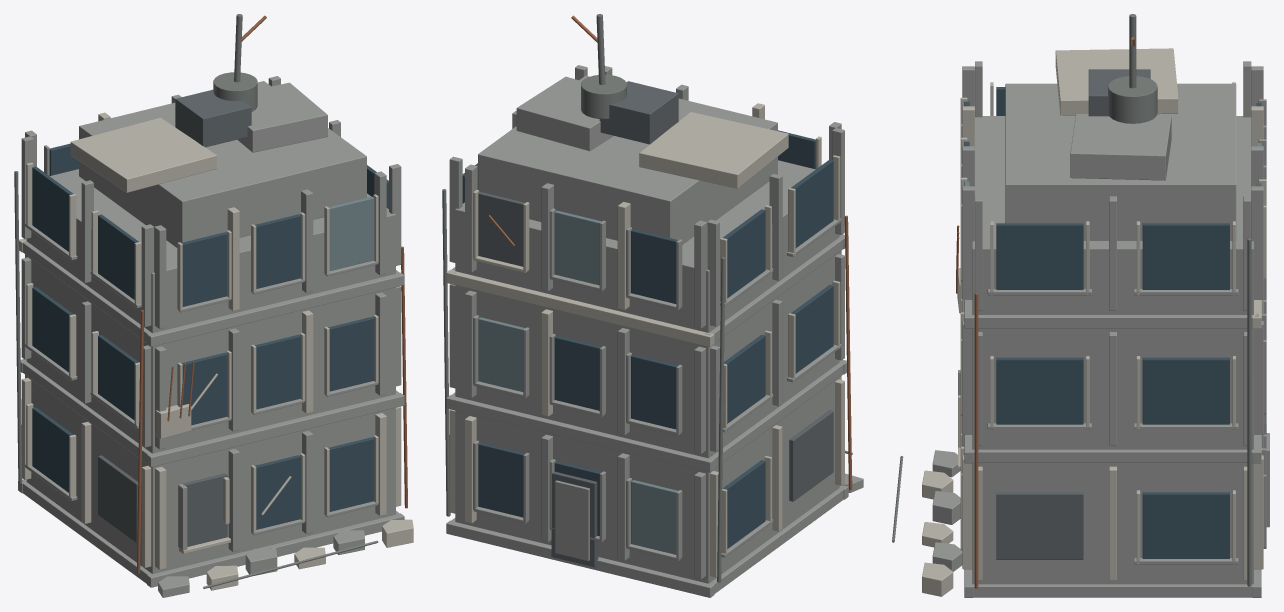
The model's file is Apoc_Building_06_Ruined_Clinic_Lowrise.fbx.
The picture shows the model from 3 angles, left to right: view 1: azimuth 30°, elevation 25°; view 2: azimuth 150°, elevation 25°; view 3: azimuth 270°, elevation 25°; orthographic projection. The views are drawn at different scales.
Visible parts, largest first — view 1: Apoc_Building_06_Ruined_Clinic_Lowrise; view 2: Apoc_Building_06_Ruined_Clinic_Lowrise; view 3: Apoc_Building_06_Ruined_Clinic_Lowrise.
Part boxes in pixels (x1,y1,x2,y2): Apoc_Building_06_Ruined_Clinic_Lowrise: (14, 14, 413, 597); Apoc_Building_06_Ruined_Clinic_Lowrise: (442, 14, 863, 597); Apoc_Building_06_Ruined_Clinic_Lowrise: (892, 14, 1269, 597).
Size of the model in its own units: 5.35 by 9 by 5.77.
